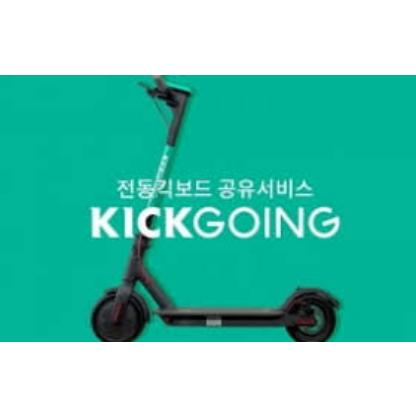bike: (90, 77, 341, 342), (90, 234, 341, 343)
